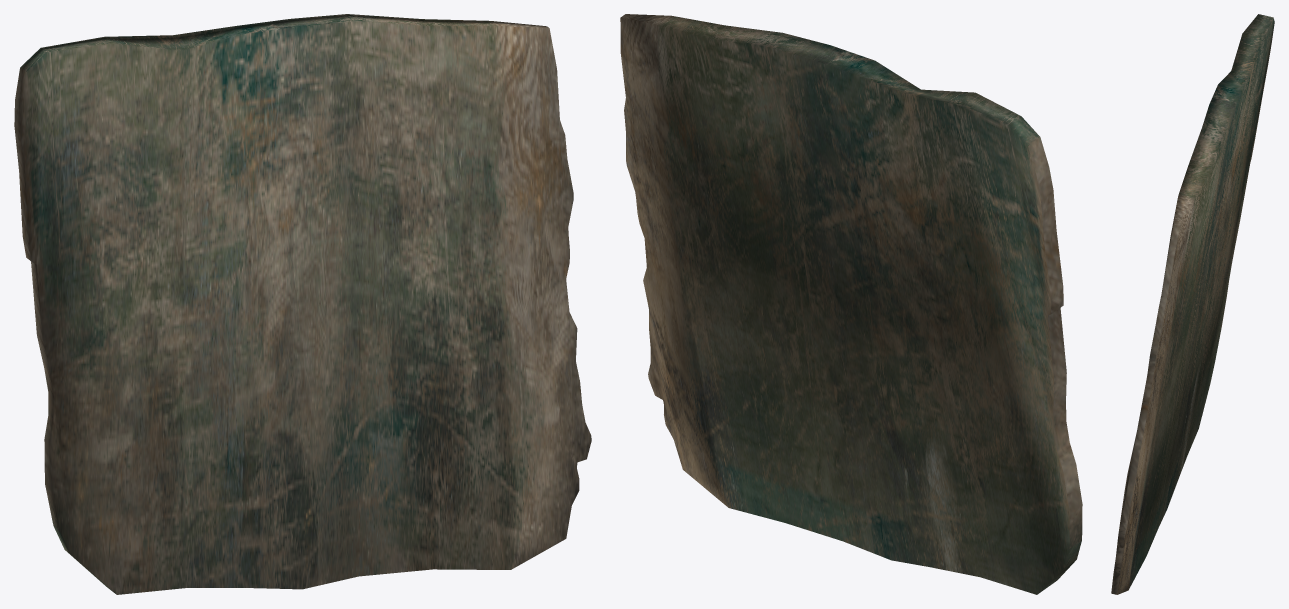
File: wooden_chips_model.fbx
3 views of the same model, side by side, from view 1: azimuth 30°, elevation 25°; view 2: azimuth 150°, elevation 25°; view 3: azimuth 270°, elevation 25° (orthographic). The views are drawn at different scales.
Parts seen in each view (by area): view 1: Plank_Broken_HP_plank_broken_0.004; view 2: Plank_Broken_HP_plank_broken_0.004; view 3: Plank_Broken_HP_plank_broken_0.004.
Part boxes in pixels (box(x1,y1,x2,y2)): Plank_Broken_HP_plank_broken_0.004: box(14, 14, 591, 594); Plank_Broken_HP_plank_broken_0.004: box(620, 14, 1082, 594); Plank_Broken_HP_plank_broken_0.004: box(1111, 14, 1274, 594).
Bounding box in the file's own units: 5.35 × 1.95 × 5.7.
1 material, 1 textured.
